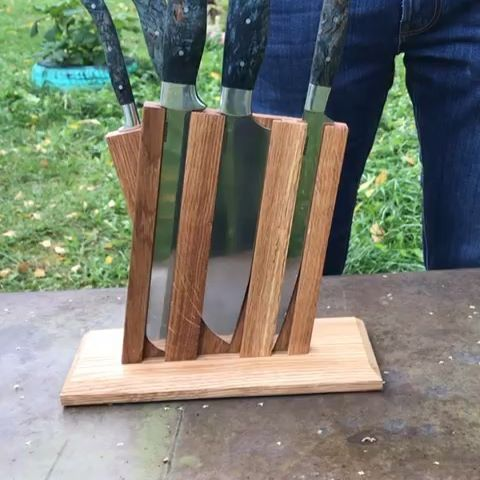knife: (201, 1, 272, 345)
